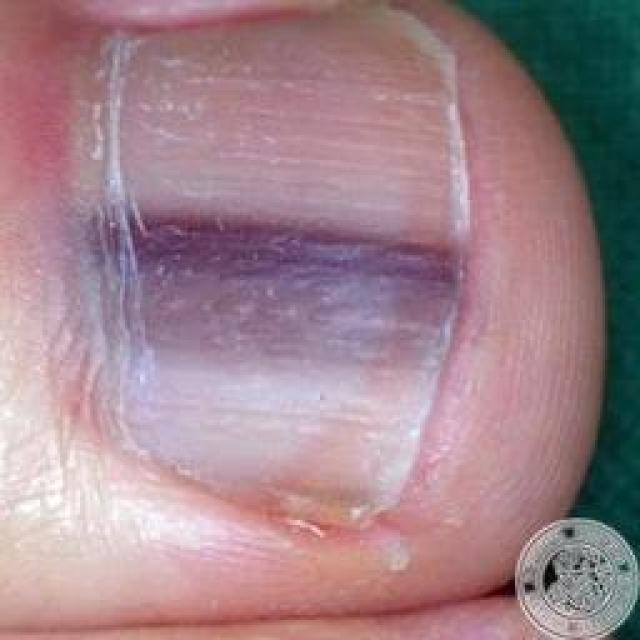Nail: (112, 6, 468, 533)
